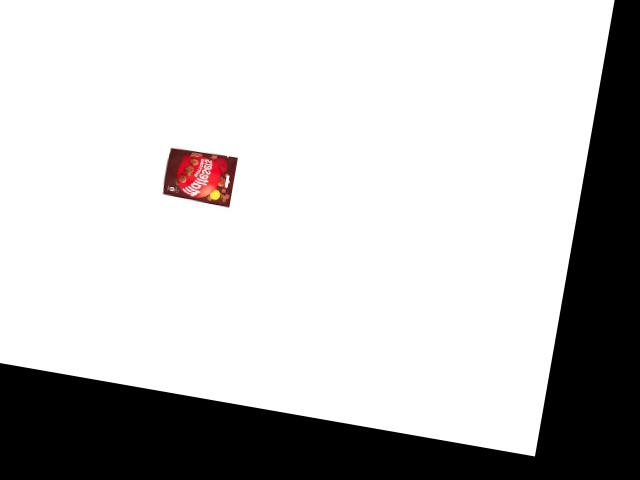chocolate: (160, 144, 239, 207)
